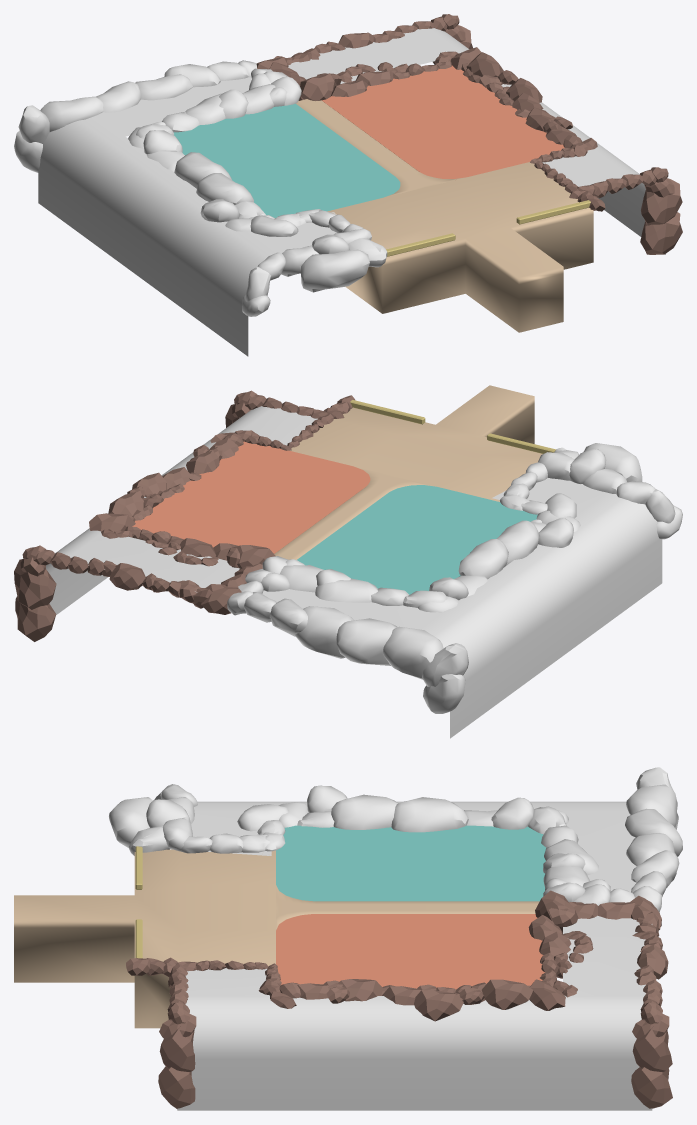
Rendered from Map_01.fbx.
3 renders of one model, top to bottom at view 1: azimuth 30°, elevation 25°; view 2: azimuth 150°, elevation 25°; view 3: azimuth 270°, elevation 25°, orthographic. The views are drawn at different scales.
Visible parts, largest first — view 1: Clouds.001, Heaven_water, Hell_Lava; view 2: Clouds.001, Heaven_water, Hell_Lava; view 3: Clouds.001, Hell_Lava, Heaven_water.
Boxes of the visible parts, x1,y1,x2,y2 form: Clouds.001: (14, 14, 682, 332); Heaven_water: (38, 77, 336, 356); Hell_Lava: (288, 28, 665, 254); Clouds.001: (14, 385, 682, 713); Heaven_water: (262, 478, 662, 738); Hell_Lava: (46, 406, 317, 614); Clouds.001: (14, 767, 682, 1108); Hell_Lava: (177, 915, 652, 1110); Heaven_water: (191, 801, 636, 892).
Size of the model in its own units: 85.11 by 19.71 by 97.14.
